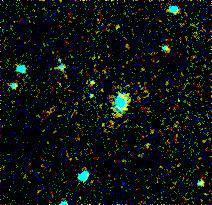star: (76, 75, 106, 105)
